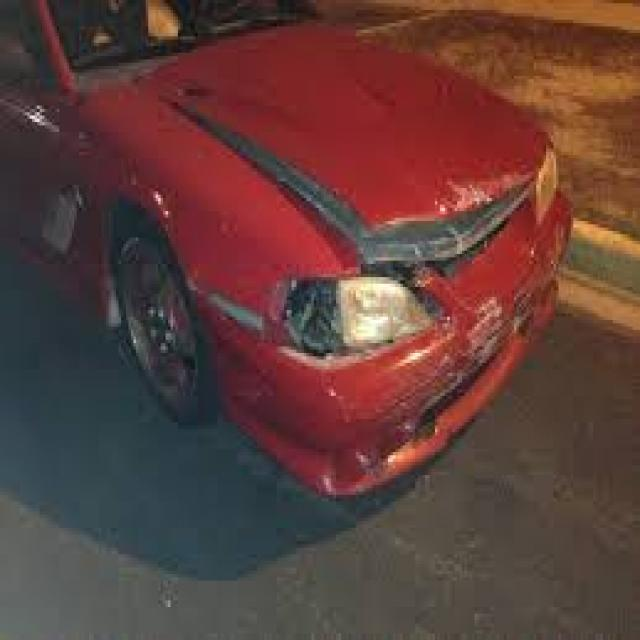moderate: (163, 88, 536, 607)
